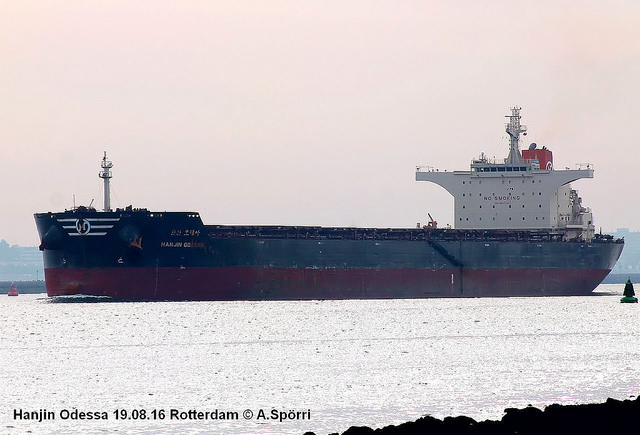bulk carrier: (34, 110, 624, 294)
